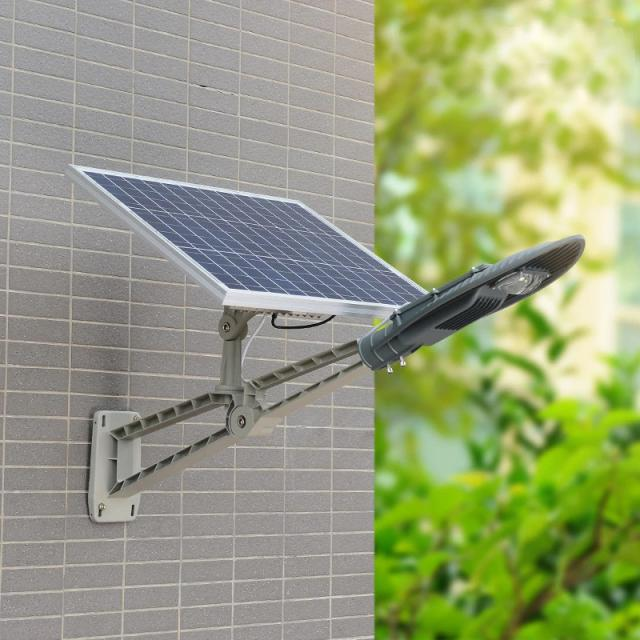dust-solar-panel: (80, 175, 429, 306)
